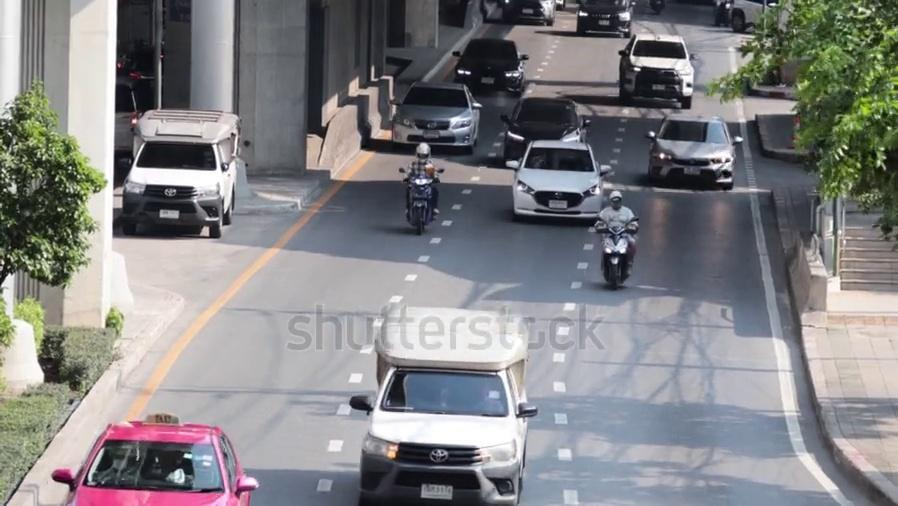rider: (594, 190, 639, 270), (401, 142, 441, 217)
with_helmate: (412, 144, 431, 162), (606, 192, 624, 210)
